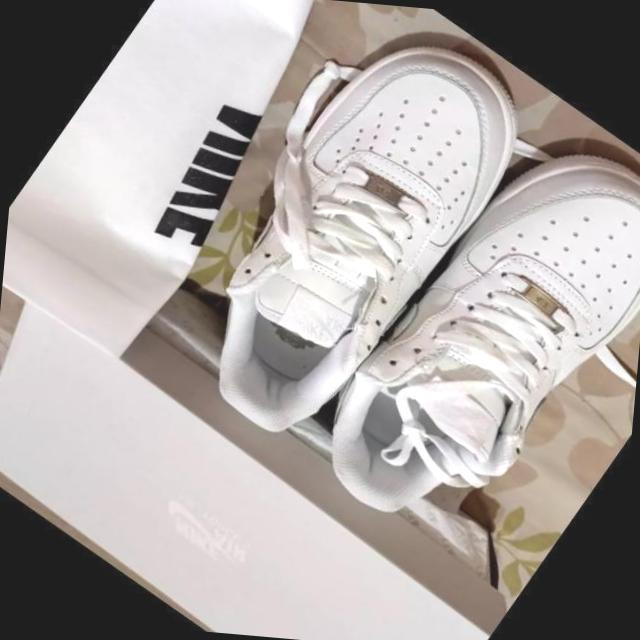nike_fake_airforce: (135, 0, 565, 485), (276, 80, 640, 590)
